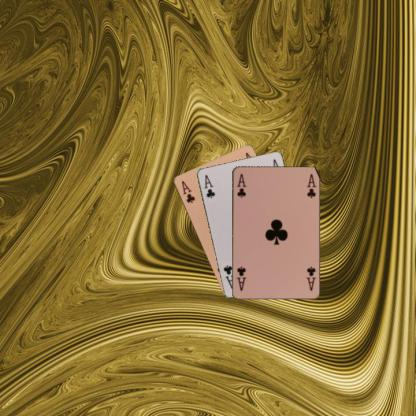Ac: (178, 178, 196, 204), (303, 263, 317, 292), (202, 172, 216, 200), (234, 171, 247, 199)
